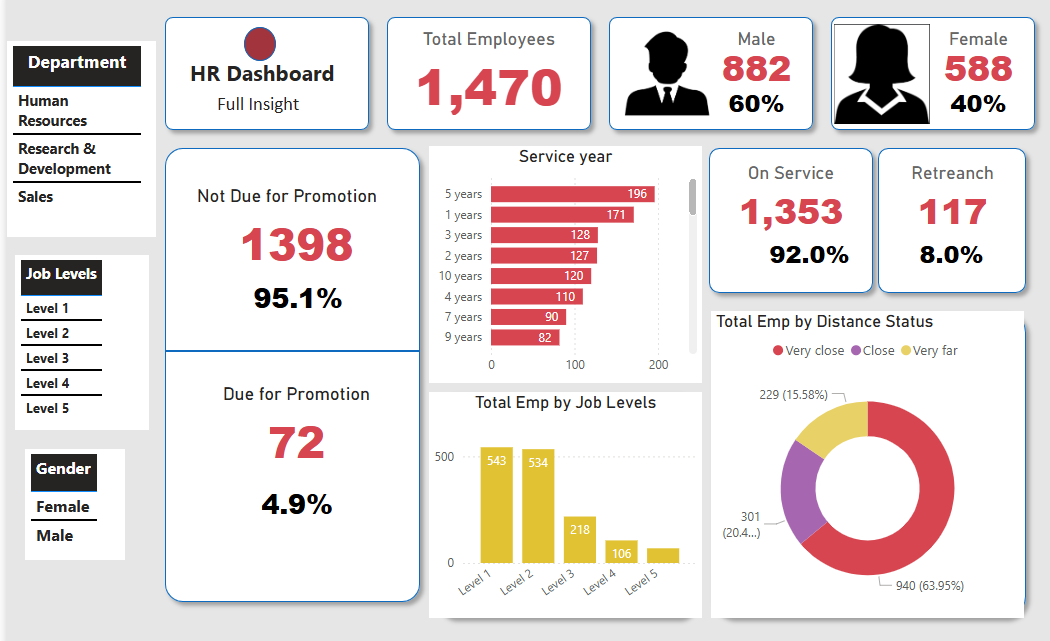

The dashboard page shown, as its layout file describes it:
{"tool":"powerbi","page":{"name":"home","canvas":[1280,720],"ordinal":0},"visuals":[{"type":"shape","box":[149,17,222,131],"z":1000},{"type":"shape","box":[371,17,222,131],"z":2000},{"type":"shape","box":[593,17,222,131],"z":3000},{"type":"shape","box":[815,17,222,131],"z":4000},{"type":"shape","box":[149,148,273,472],"z":5000},{"type":"shape","box":[422,148,273,244],"z":6000},{"type":"shape","box":[422,392,273,244],"z":7000},{"type":"shape","box":[693,148,182,163],"z":8000},{"type":"shape","box":[862,148,166,163],"z":9000},{"type":"shape","box":[695,311,333,325],"z":10000},{"type":"textbox","box":[178,62,164,41],"z":11000},{"type":"textbox","box":[205,96,109,38],"z":12000},{"type":"shape","box":[237,36,32,34],"z":13000},{"type":"card","title":"Total Employees","fields":{"Values":["All Measures.Total Emp"]},"box":[394,37,176,92],"z":14000},{"type":"card","title":"Male","fields":{"Values":["All Measures.Male"]},"box":[704,37,91,59],"z":15000},{"type":"card","title":"Male","fields":{"Values":["All Measures.% male"]},"box":[704,96,91,33],"z":16000},{"type":"card","title":"Female","fields":{"Values":["All Measures.Female"]},"box":[926,37,91,59],"z":17000},{"type":"card","title":"Male","fields":{"Values":["All Measures.% female"]},"box":[926,96,91,33],"z":18000},{"type":"card","title":"Not Due for Promotion","fields":{"Values":["All Measures.Not Due"]},"box":[185,194,209,94],"z":19000},{"type":"card","title":"Not Due for Promotion","fields":{"Values":["All Measures.% not due"]},"box":[188,280,206,56],"z":20000},{"type":"card","title":"Due for Promotion","fields":{"Values":["All Measures.Due for Promotion"]},"box":[185,392,209,94],"z":21000},{"type":"card","title":"Not Due for Promotion","fields":{"Values":["All Measures.% due for promotion"]},"box":[187,486,206,56],"z":22000},{"type":"shape","box":[158,340,255,40],"z":23000},{"type":"barChart","title":"Service year","fields":{"Category":["Sheet1.Service years"],"Y":["All Measures.Total Emp"]},"box":[422,155,273,237],"z":24000},{"type":"columnChart","fields":{"Category":["Sheet1.Job Levels"],"Y":["All Measures.Total Emp"]},"box":[422,401,273,226],"z":25000},{"type":"card","title":"On Service","fields":{"Values":["All Measures.On Service"]},"box":[706,171,156,76],"z":26000},{"type":"card","title":"Male","fields":{"Values":["All Measures.% on service"]},"box":[757,247,91,33],"z":27000},{"type":"card","title":"Retreanch","fields":{"Values":["All Measures.willbe retreanch"]},"box":[874,171,143,76],"z":28000},{"type":"card","title":"Male","fields":{"Values":["All Measures.% willbw retreanch"]},"box":[899,247,91,33],"z":29000},{"type":"donutChart","fields":{"Category":["Sheet1.Distance Status"],"Y":["All Measures.Total Emp"]},"box":[704,320,313,307],"z":30000},{"type":"tableEx","fields":{"Values":["Sheet1.Department"]},"box":[0,50,149,196],"z":30001},{"type":"tableEx","fields":{"Values":["Sheet1.Job Levels"]},"box":[8,264,134,175],"z":30002},{"type":"tableEx","fields":{"Values":["Sheet1.Gender"]},"box":[18,458,100,111],"z":30003},{"type":"image","box":[820,28,109,110],"z":30004},{"type":"image","box":[603,25,117,116],"z":30005}]}

Visuals, with their boxes on the page's 1280x720 design canvas (x1, y1, x2, y2). These are canvas units, not pixel positions in the 1050x641 screenshot, which may show the page scaled, cropped or inside an application window:
shape: x1=149 y1=17 x2=371 y2=148
shape: x1=371 y1=17 x2=593 y2=148
shape: x1=593 y1=17 x2=815 y2=148
shape: x1=815 y1=17 x2=1037 y2=148
shape: x1=149 y1=148 x2=422 y2=620
shape: x1=422 y1=148 x2=695 y2=392
shape: x1=422 y1=392 x2=695 y2=636
shape: x1=693 y1=148 x2=875 y2=311
shape: x1=862 y1=148 x2=1028 y2=311
shape: x1=695 y1=311 x2=1028 y2=636
textbox: x1=178 y1=62 x2=342 y2=103
textbox: x1=205 y1=96 x2=314 y2=134
shape: x1=237 y1=36 x2=269 y2=70
"Total Employees" card: x1=394 y1=37 x2=570 y2=129
"Male" card: x1=704 y1=37 x2=795 y2=96
"Male" card: x1=704 y1=96 x2=795 y2=129
"Female" card: x1=926 y1=37 x2=1017 y2=96
"Male" card: x1=926 y1=96 x2=1017 y2=129
"Not Due for Promotion" card: x1=185 y1=194 x2=394 y2=288
"Not Due for Promotion" card: x1=188 y1=280 x2=394 y2=336
"Due for Promotion" card: x1=185 y1=392 x2=394 y2=486
"Not Due for Promotion" card: x1=187 y1=486 x2=393 y2=542
shape: x1=158 y1=340 x2=413 y2=380
"Service year" barChart: x1=422 y1=155 x2=695 y2=392
columnChart - Sheet1.Job Levels x All Measures.Total Emp: x1=422 y1=401 x2=695 y2=627
"On Service" card: x1=706 y1=171 x2=862 y2=247
"Male" card: x1=757 y1=247 x2=848 y2=280
"Retreanch" card: x1=874 y1=171 x2=1017 y2=247
"Male" card: x1=899 y1=247 x2=990 y2=280
donutChart - Sheet1.Distance Status x All Measures.Total Emp: x1=704 y1=320 x2=1017 y2=627
tableEx - Sheet1.Department: x1=0 y1=50 x2=149 y2=246
tableEx - Sheet1.Job Levels: x1=8 y1=264 x2=142 y2=439
tableEx - Sheet1.Gender: x1=18 y1=458 x2=118 y2=569
image: x1=820 y1=28 x2=929 y2=138
image: x1=603 y1=25 x2=720 y2=141
